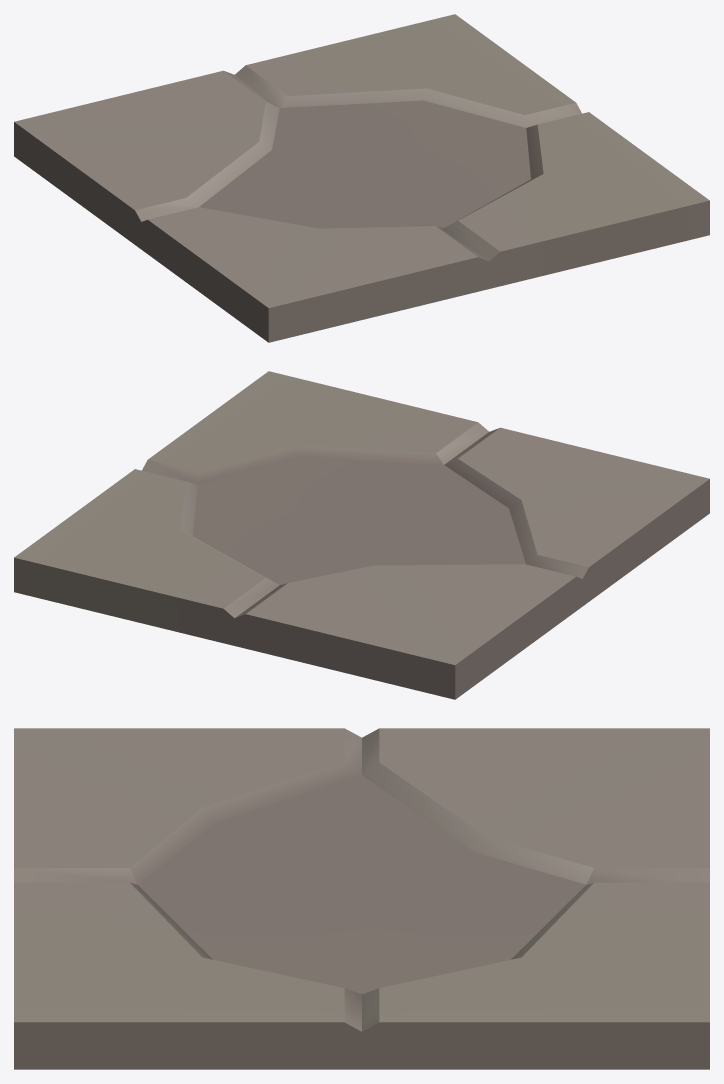
File: b_donjon_sol_dalle_fendue.glb
3 renders of one model, top to bottom at view 1: azimuth 30°, elevation 25°; view 2: azimuth 150°, elevation 25°; view 3: azimuth 270°, elevation 25°, orthographic. The views are drawn at different scales.
Visible parts, largest first — view 1: b_donjon_sol_dalle_fendue; view 2: b_donjon_sol_dalle_fendue; view 3: b_donjon_sol_dalle_fendue.
Boxes of the visible parts, x1=… form: b_donjon_sol_dalle_fendue: x1=14, y1=14, x2=709, y2=342; b_donjon_sol_dalle_fendue: x1=14, y1=371, x2=709, y2=699; b_donjon_sol_dalle_fendue: x1=14, y1=728, x2=709, y2=1069.
Bounding box in the file's own units: 2 × 0.1499 × 2.
1 material, 1 textured.
